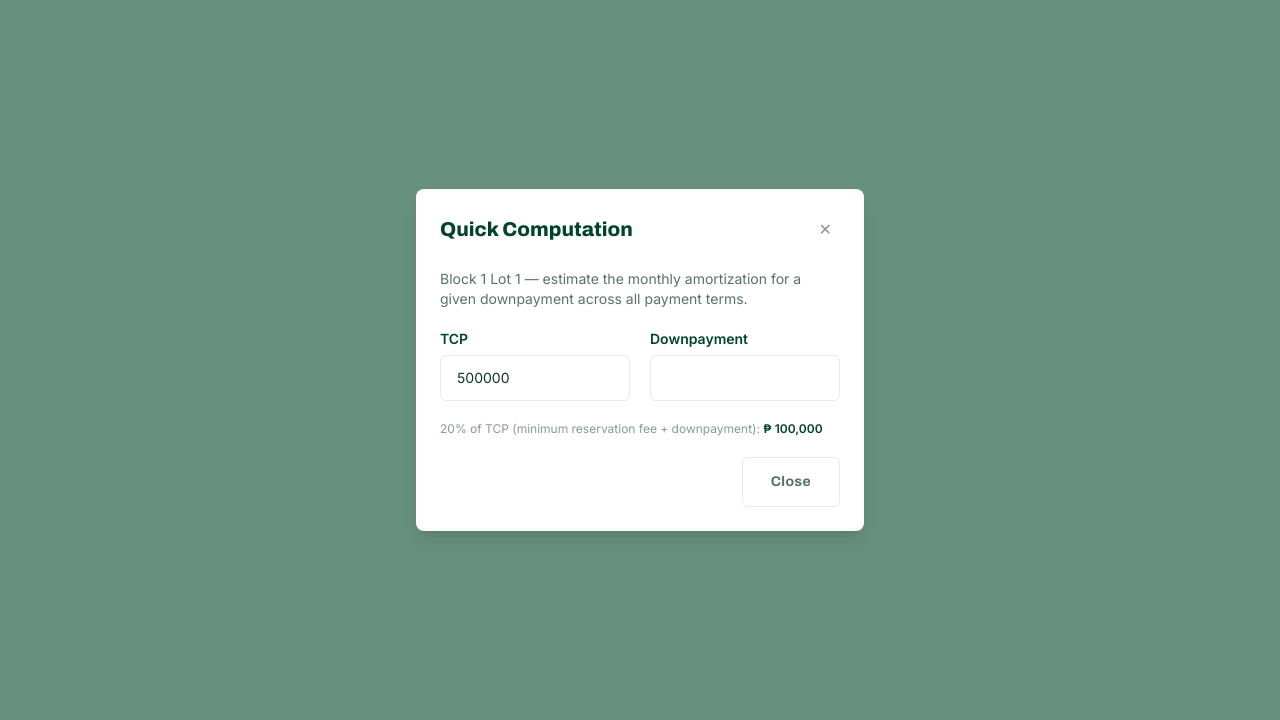
Scenario: ComputationModal › recomputes every amortization as the downpayment changes
Type "100000" into the number field labelled "Downpayment" at (745, 378), box [650, 355, 840, 401]
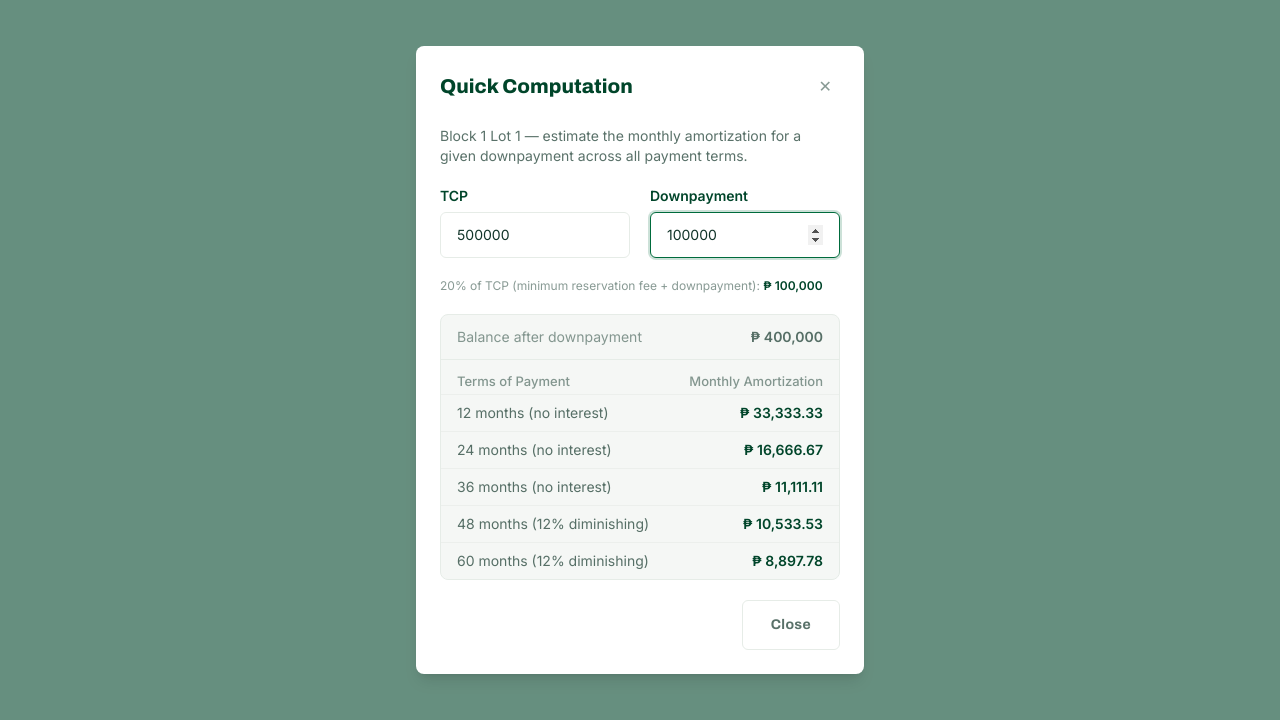
Now the text "₱ 400,000" is shown, box [750, 327, 823, 347]
Now the text "₱ 10,533.53" is shown, box [670, 506, 839, 543]
Clear the number field labelled "Downpayment" at (745, 235), box [650, 212, 840, 258]
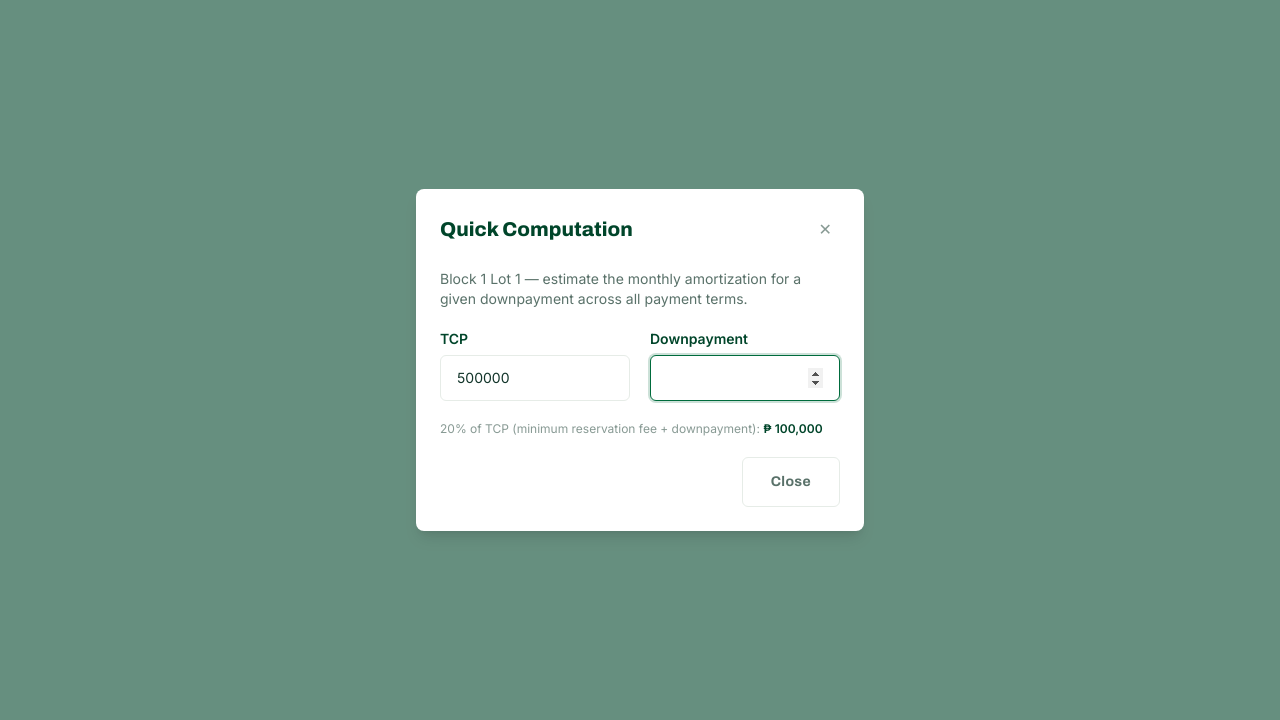
Type "200000" into the number field labelled "Downpayment" at (745, 378), box [650, 355, 840, 401]
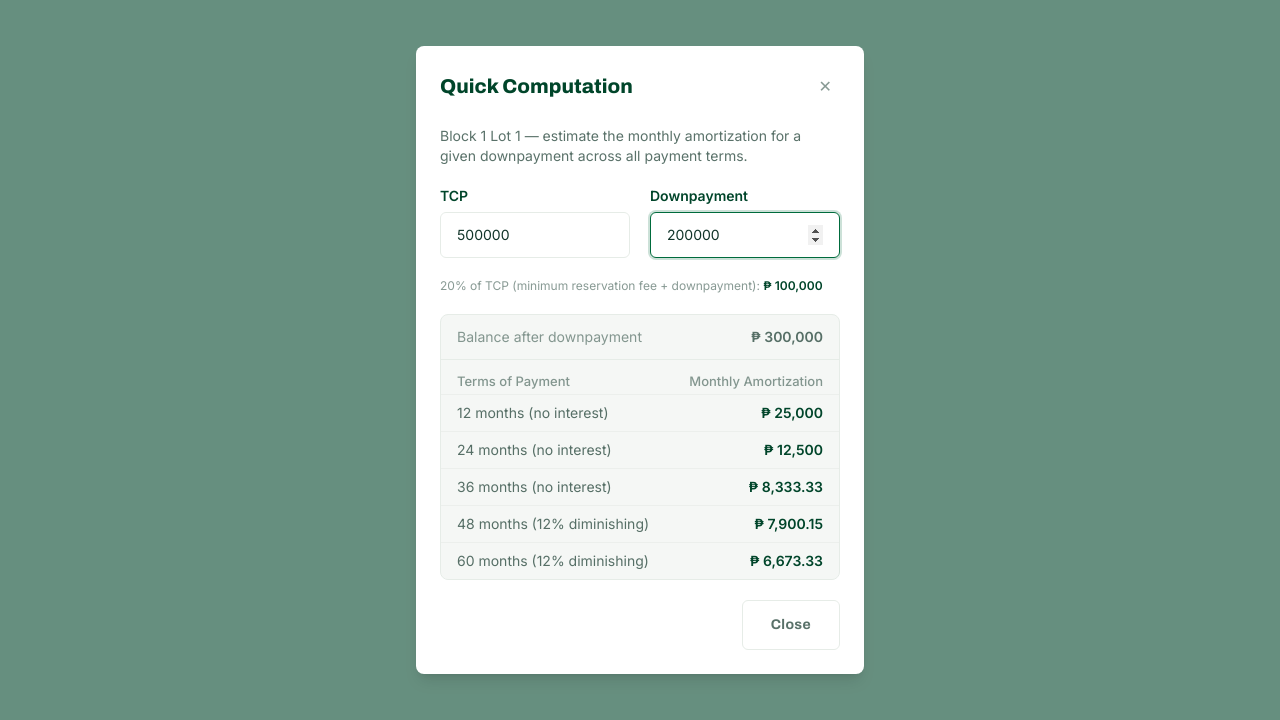
Now the text "₱ 300,000" is shown, box [751, 327, 823, 347]
Now the text "₱ 7,900.15" is shown, box [670, 506, 839, 543]
